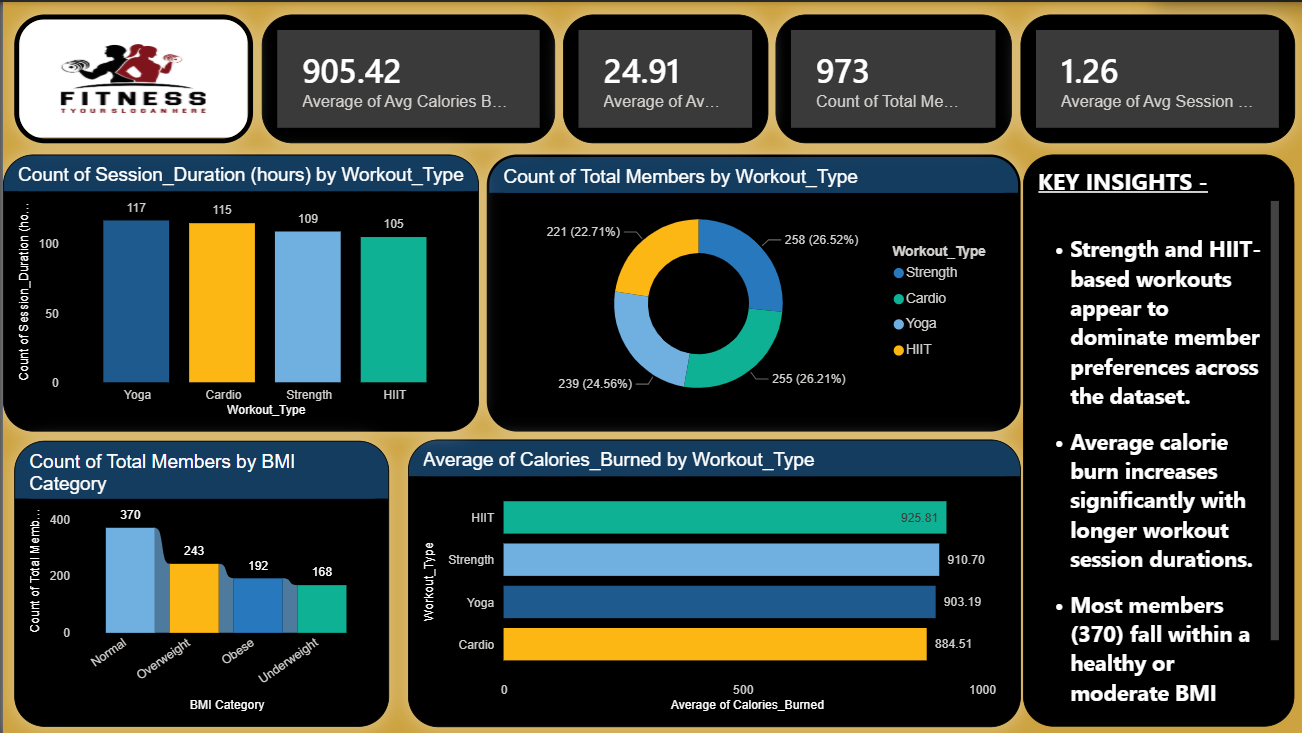

What the dashboard file says about the page in this screenshot:
{"tool":"powerbi","page":{"name":"overview","canvas":[1280,720],"ordinal":0},"visuals":[{"type":"donutChart","fields":{"Category":["gym_members_exercise_tracking.Workout_Type"],"Y":["CountNonNull(gym_members_exercise_tracking.Total Members)"]},"box":[474.8,149.7,523.9,272.4],"z":0},{"type":"cardVisual","fields":{"Data":["CountNonNull(gym_members_exercise_tracking.Total Members)"]},"box":[758,12.3,231.9,126.4],"z":1000},{"type":"cardVisual","fields":{"Data":["Avg(gym_members_exercise_tracking.Avg Calories Burned)"]},"box":[254,12.3,288.3,126.4],"z":2000},{"type":"cardVisual","fields":{"Data":["Avg(gym_members_exercise_tracking.Avg BMI)"]},"box":[550,12.3,201.2,126.4],"z":3000},{"type":"cardVisual","fields":{"Data":["Avg(gym_members_exercise_tracking.Avg Session Duration)"]},"box":[999,12.3,269.9,126.4],"z":4000},{"type":"clusteredBarChart","fields":{"Category":["gym_members_exercise_tracking.Workout_Type"],"Y":["Avg(gym_members_exercise_tracking.Calories_Burned)"]},"box":[397.5,429.5,601.2,282.2],"z":5000},{"type":"clusteredColumnChart","fields":{"Category":["gym_members_exercise_tracking.Workout_Type"],"Y":["Count(gym_members_exercise_tracking.Session_Duration (hours))"]},"box":[0,149.7,467,272],"z":6000},{"type":"textbox","title":"KEY INSIGHTS -","box":[1001.2,149.7,266.3,562],"z":7000},{"type":"image","box":[11,12.3,234.4,126.4],"z":8000},{"type":"columnChart","fields":{"Category":["gym_members_exercise_tracking.BMI Category"],"Y":["CountNonNull(gym_members_exercise_tracking.Total Members)"]},"box":[11,430.7,368.1,281],"z":9000}]}

Visuals, with their boxes in screenshot pixels (x1, y1, x2, y2), scaled from the page's 1280x720 canvas onto the 1302x733 screenshot:
donutChart - gym_members_exercise_tracking.Workout_Type x CountNonNull(gym_members_exercise_tracking.Total Members): Rect(483, 152, 1016, 430)
cardVisual - CountNonNull(gym_members_exercise_tracking.Total Members): Rect(771, 13, 1007, 141)
cardVisual - Avg(gym_members_exercise_tracking.Avg Calories Burned): Rect(258, 13, 552, 141)
cardVisual - Avg(gym_members_exercise_tracking.Avg BMI): Rect(559, 13, 764, 141)
cardVisual - Avg(gym_members_exercise_tracking.Avg Session Duration): Rect(1016, 13, 1291, 141)
clusteredBarChart - gym_members_exercise_tracking.Workout_Type x Avg(gym_members_exercise_tracking.Calories_Burned): Rect(404, 437, 1016, 725)
clusteredColumnChart - gym_members_exercise_tracking.Workout_Type x Count(gym_members_exercise_tracking.Session_Duration (hours)): Rect(0, 152, 475, 429)
"KEY INSIGHTS -" textbox: Rect(1018, 152, 1289, 725)
image: Rect(11, 13, 250, 141)
columnChart - gym_members_exercise_tracking.BMI Category x CountNonNull(gym_members_exercise_tracking.Total Members): Rect(11, 438, 386, 725)
